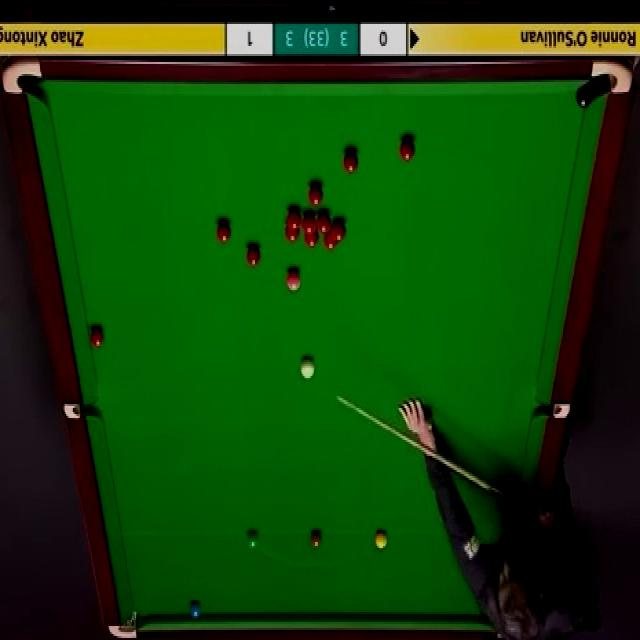pocket: (1, 55, 43, 97), (591, 62, 634, 98), (108, 608, 140, 640), (534, 403, 570, 419), (64, 405, 99, 420)
